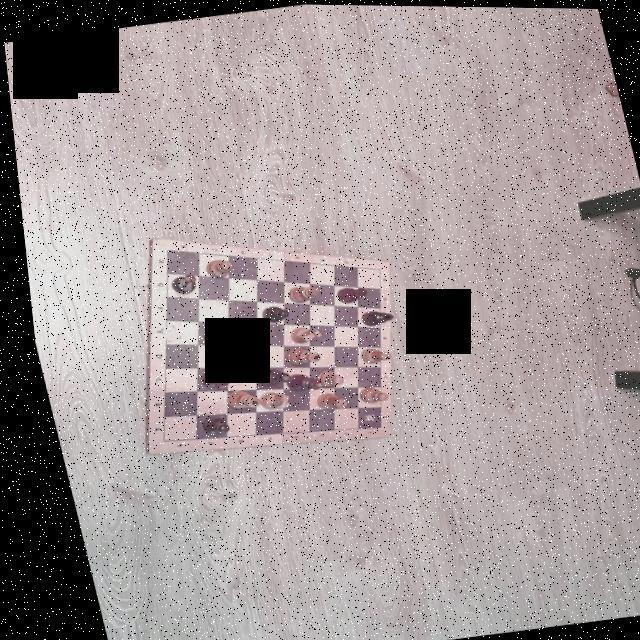chess-table-corners: (159, 246, 165, 251), (371, 266, 377, 270), (370, 423, 374, 428), (152, 438, 156, 442)
